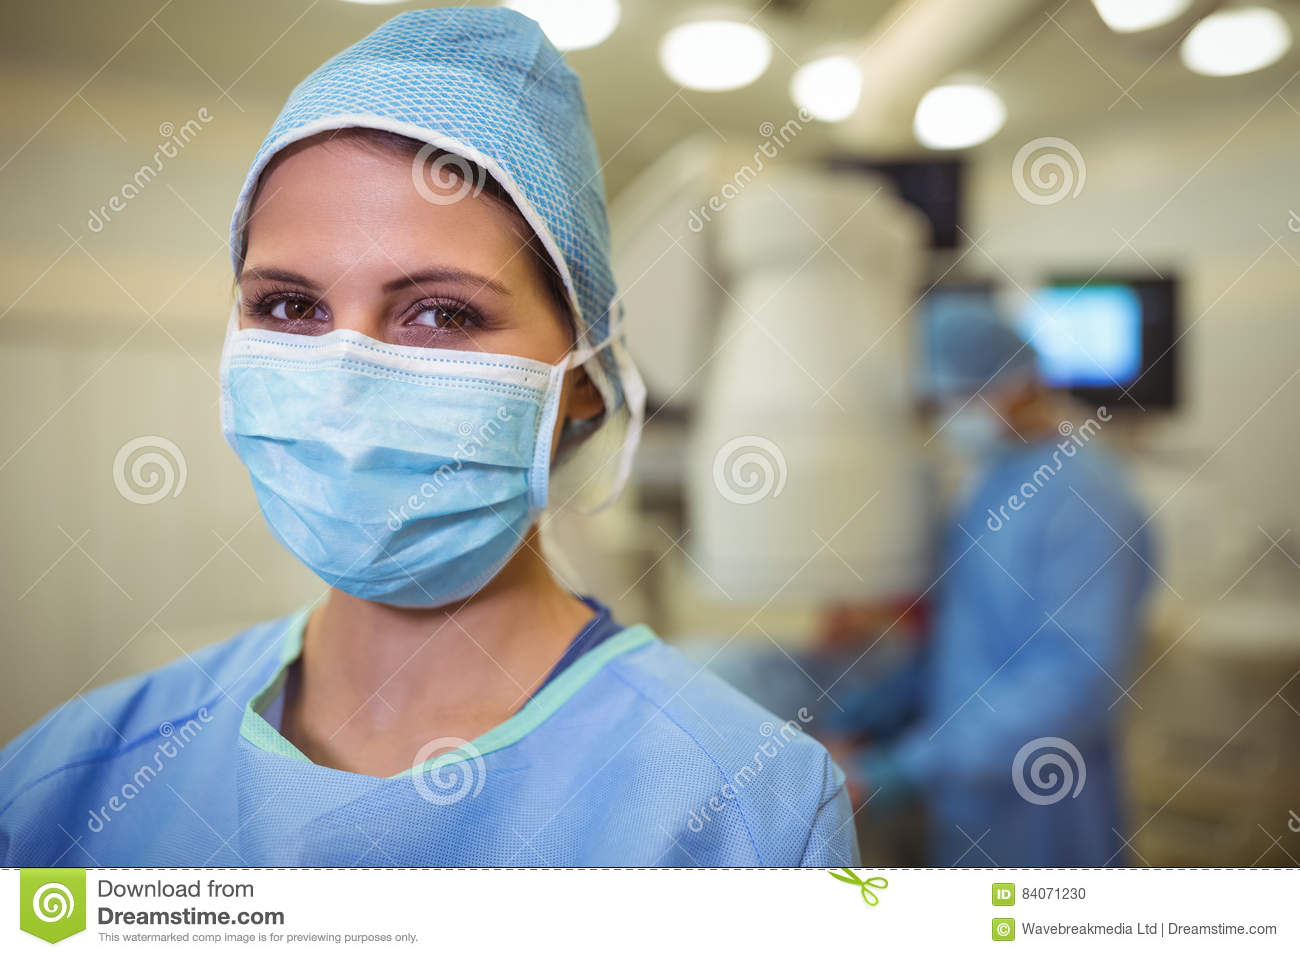mask: (222, 317, 556, 604)
